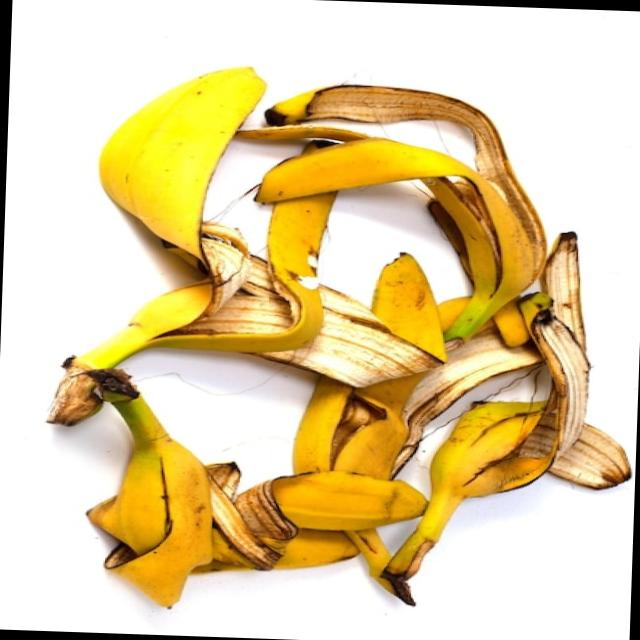banana_peel: (347, 207, 635, 607), (39, 60, 328, 431), (252, 77, 550, 359)
